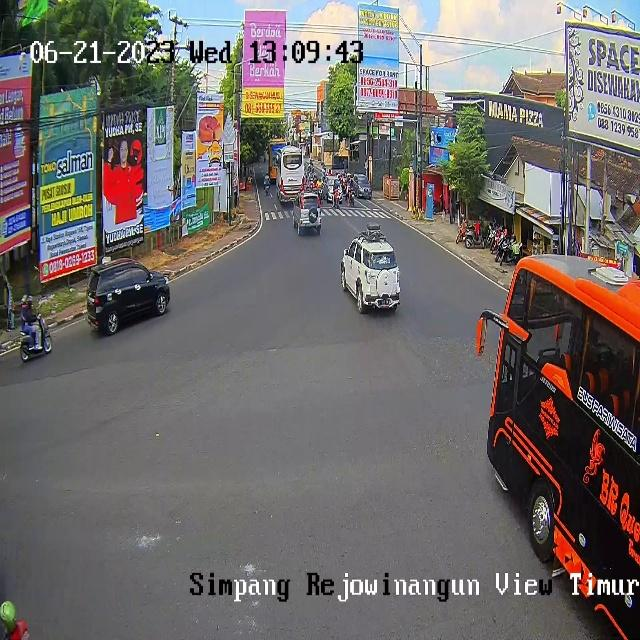bus: (19, 313, 52, 362), (348, 187, 356, 207), (332, 188, 339, 208), (264, 182, 270, 196)
car: (486, 255, 640, 640), (276, 146, 306, 202), (268, 139, 288, 178)
motorcycle: (86, 257, 170, 336), (340, 238, 400, 314), (293, 193, 321, 236), (352, 173, 373, 200), (328, 175, 343, 201)
